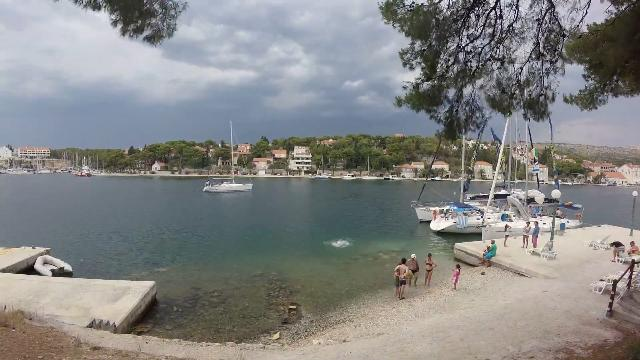Sailboat: (198, 172, 256, 195)
